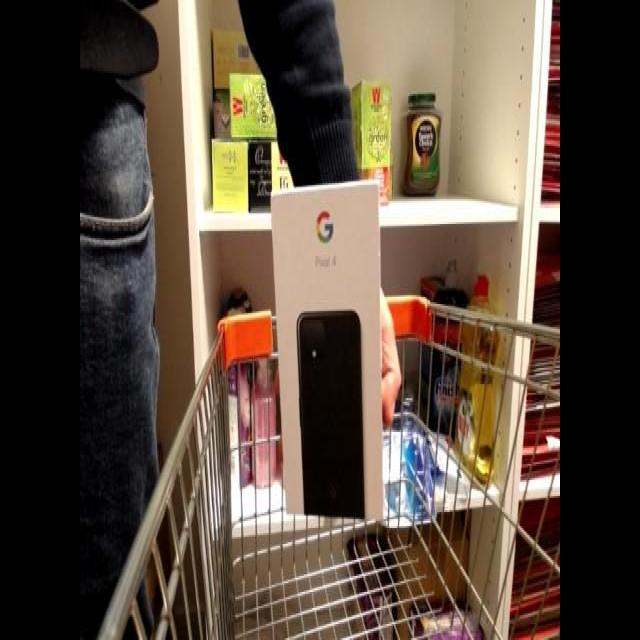Pixel 4: (272, 161, 394, 520)
